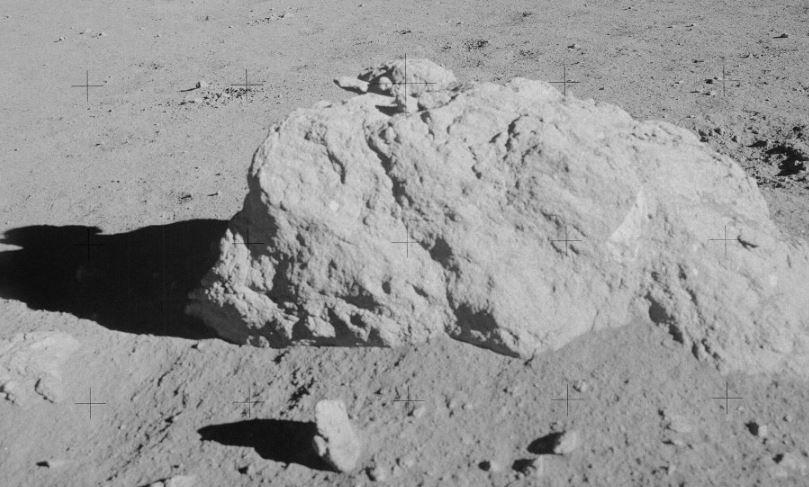rock: (188, 79, 809, 372)
